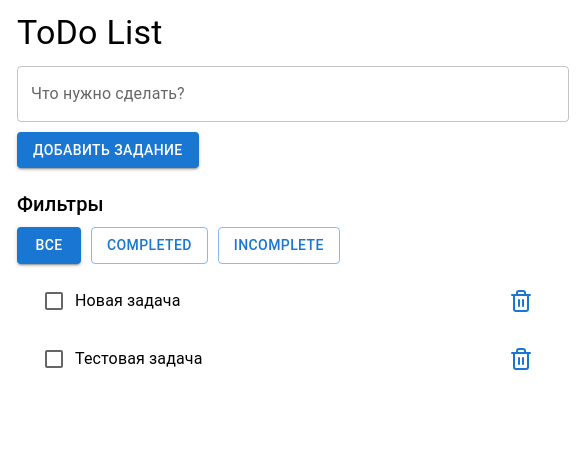
Test: ToDo App › удаление задачи
The width and height of the screenshot is (586, 451).
In the field labelled "Что нужно сделать?": [293, 94] box [17,66,569,122], type "Удаляемая задача"
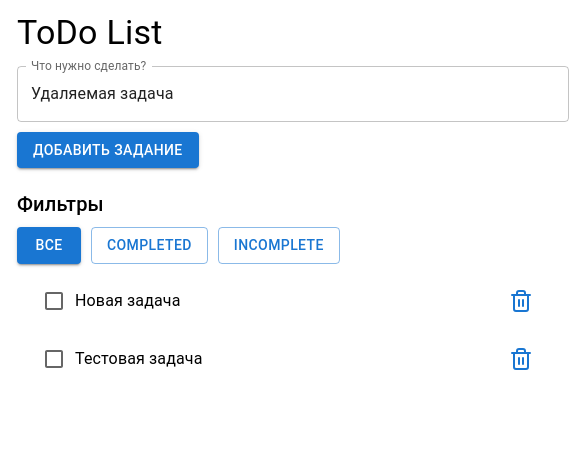
Click the button "Добавить задание": [108, 150] box [17,132,199,168]
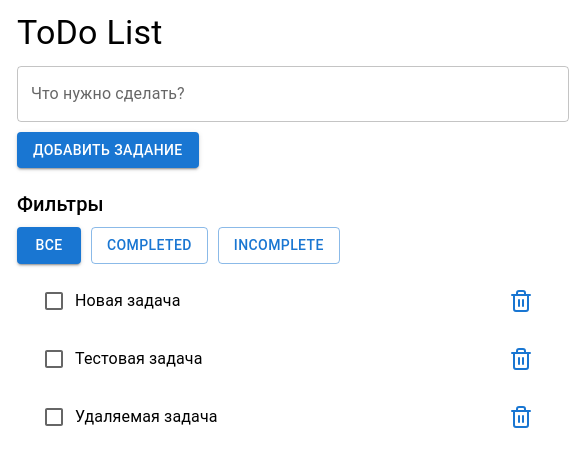
Click the button named "удалить задачу" in the row of "Удаляемая задача": [521, 417] box [489,399,553,435]
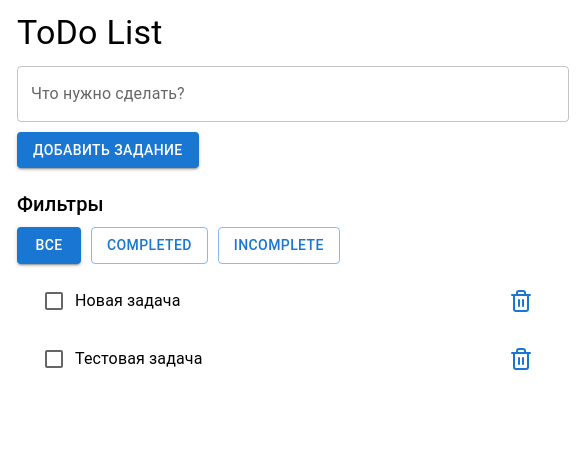
Expected: the text "Удаляемая задача" is gone
